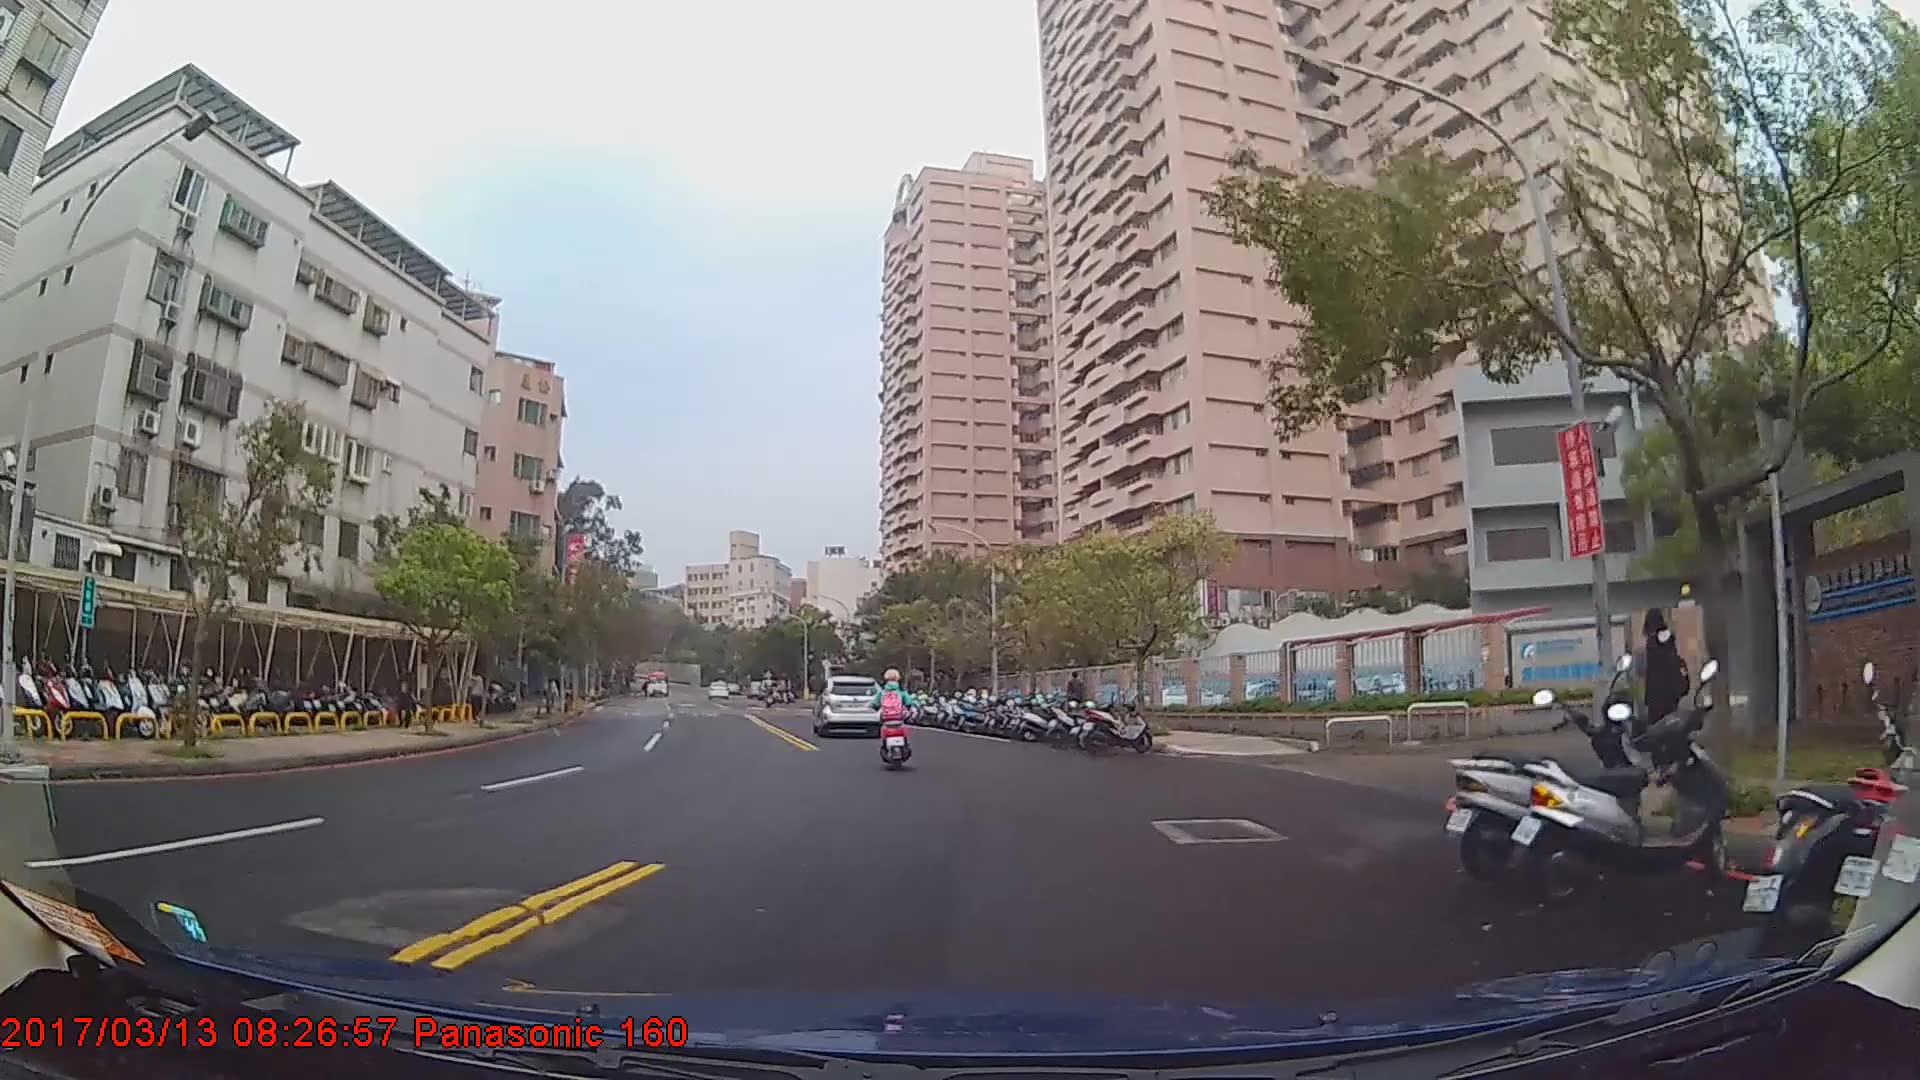pedestrian: (1624, 612, 1703, 805), (391, 668, 418, 732), (1067, 671, 1087, 729)
rider: (874, 669, 917, 767)
vehicle: (810, 673, 887, 738), (643, 669, 670, 699)
